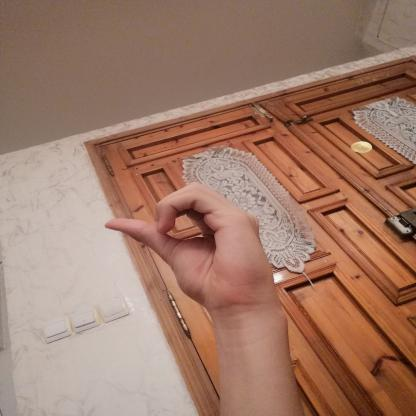WAW: (90, 174, 292, 320)
